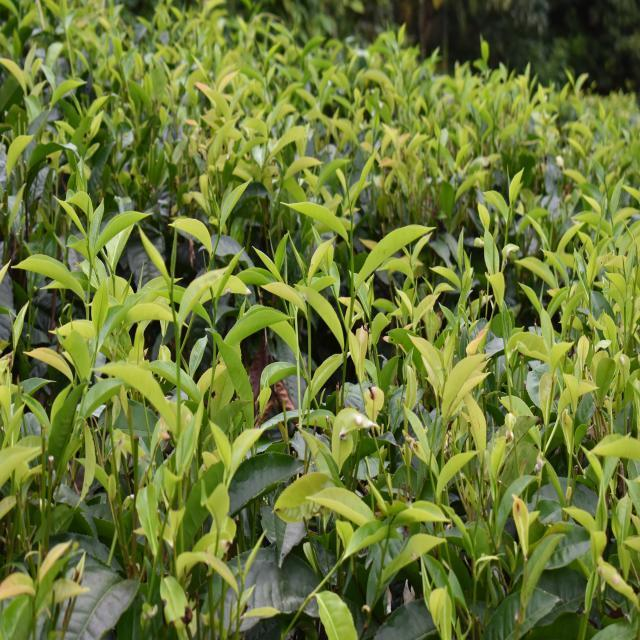Stem: (112, 275, 116, 280), (351, 292, 355, 297), (506, 221, 510, 226), (169, 292, 173, 296), (218, 236, 221, 239), (213, 311, 216, 314)
